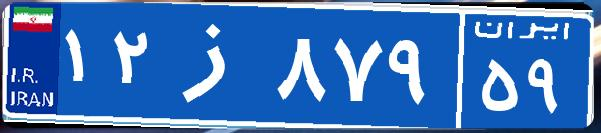1: (57, 26, 110, 107)
2: (110, 28, 158, 105)
5: (475, 38, 525, 113)
7: (330, 28, 385, 110)
8: (273, 28, 330, 110)
9: (385, 28, 445, 110), (525, 38, 570, 115)
ز: (158, 15, 273, 115)
